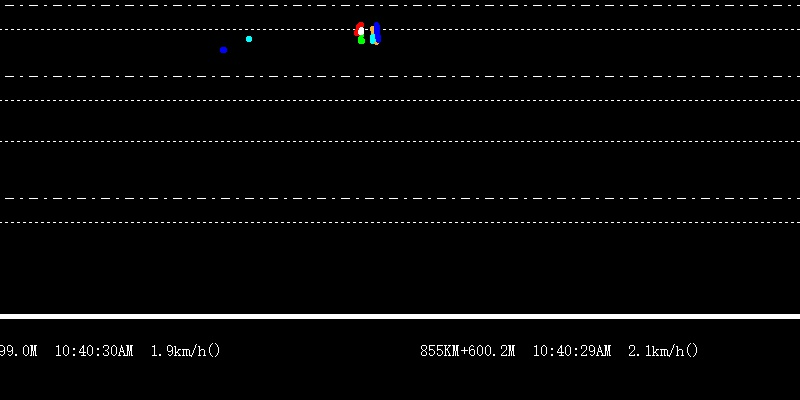face_down: (244, 26, 254, 43)
face_s: (369, 20, 383, 48), (353, 21, 366, 46)
